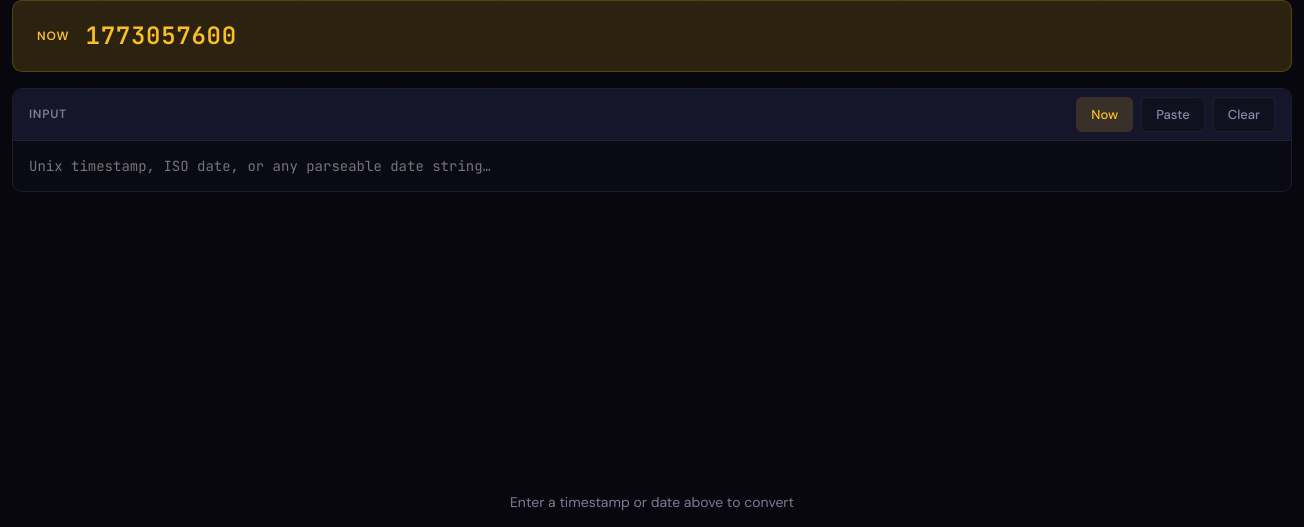
Test: TimestampConverter › clears input
Type "1000000000" into the field named "timestamp or date input".
click(652, 166); type("1000000000")  # box left=13, top=141, right=1291, bottom=191
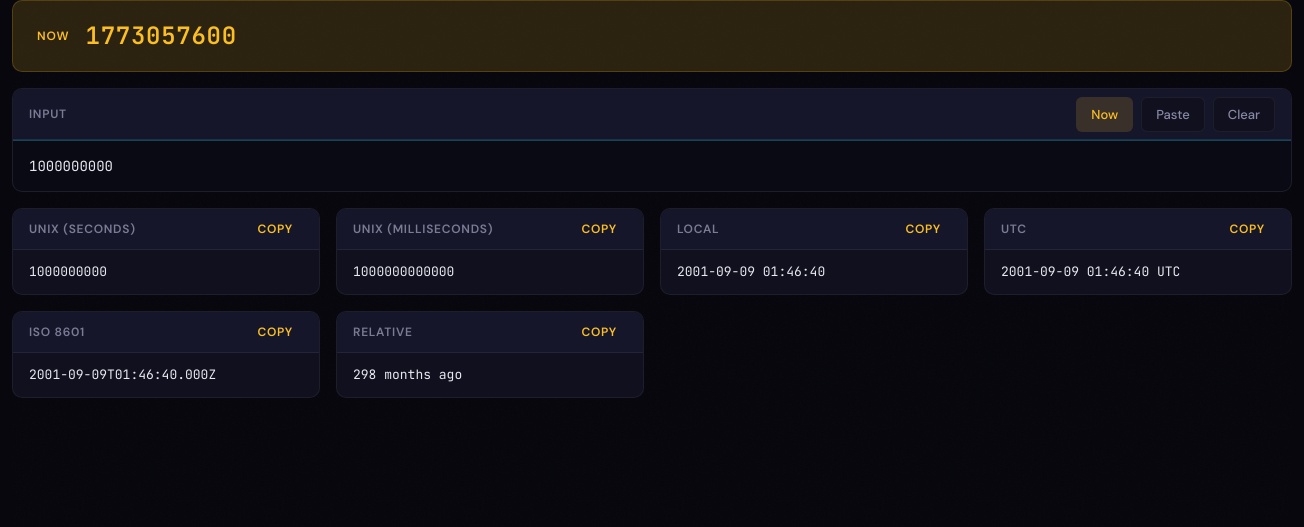
Click the button "Clear".
click(1244, 115)  # box left=1213, top=97, right=1275, bottom=132
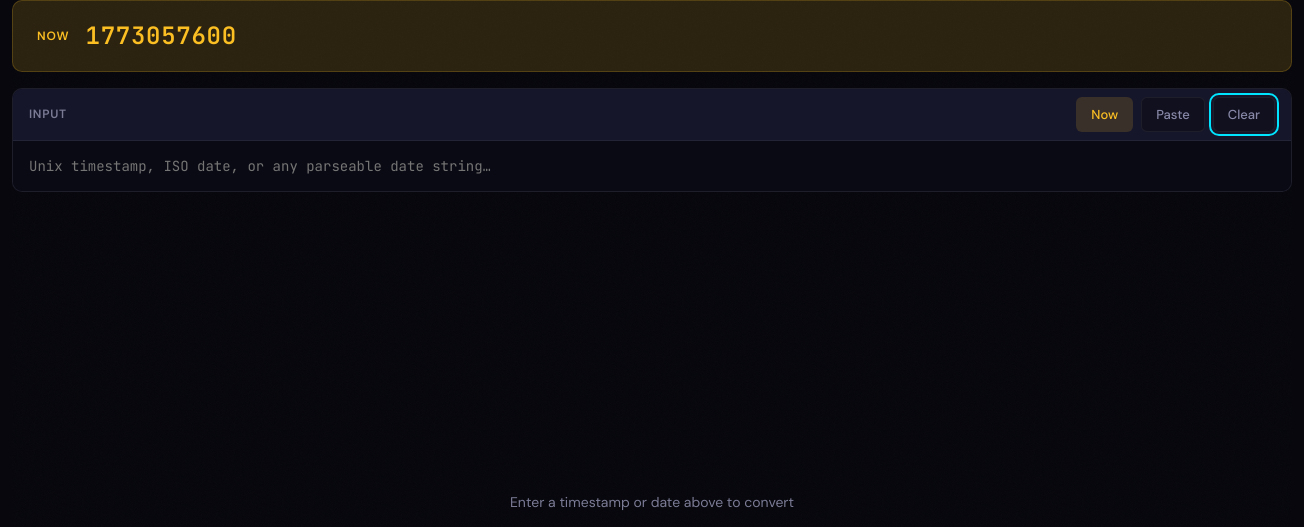
Check: the field named "timestamp or date input" is empty, box left=13, top=141, right=1291, bottom=191
